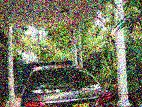car: (21, 64, 112, 107)
